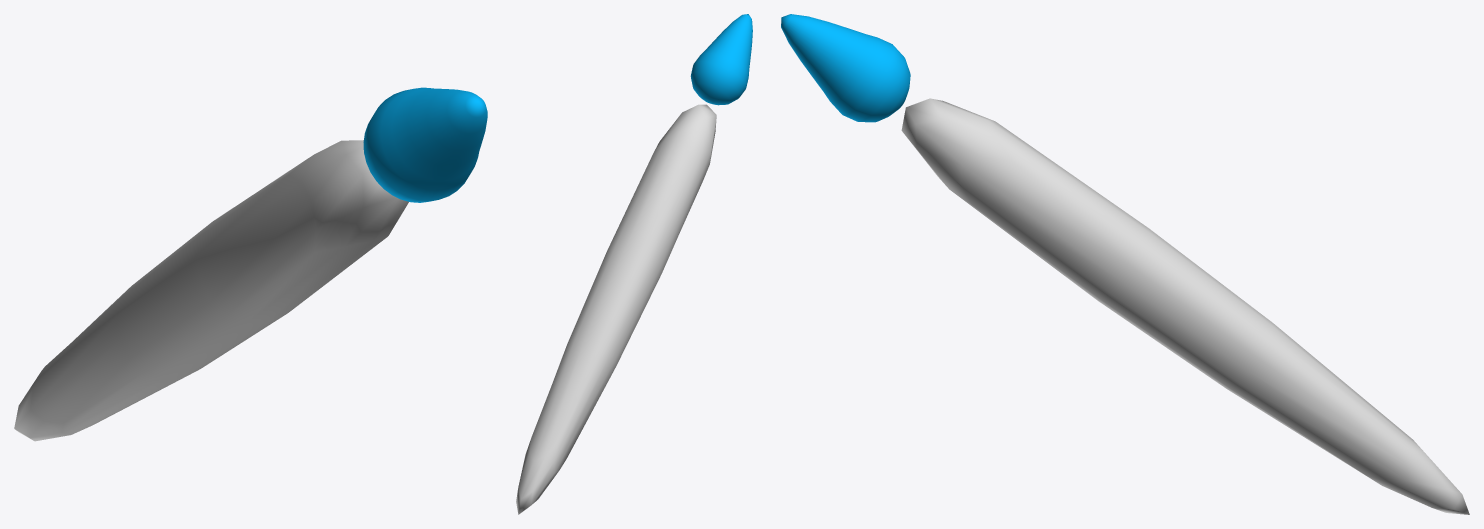
File: Brush.fbx
3 renders of one model, left to right at view 1: azimuth 30°, elevation 25°; view 2: azimuth 150°, elevation 25°; view 3: azimuth 270°, elevation 25°, orthographic. The views are drawn at different scales.
Parts seen in each view (by area): view 1: Cube, Sphere; view 2: Cube, Sphere; view 3: Cube, Sphere.
Part boxes in pixels (x1=…): Cube: x1=14, y1=140, x2=408, y2=441; Sphere: x1=363, y1=87, x2=487, y2=202; Cube: x1=516, y1=104, x2=716, y2=514; Sphere: x1=690, y1=14, x2=752, y2=105; Cube: x1=901, y1=98, x2=1469, y2=514; Sphere: x1=781, y1=14, x2=910, y2=122.
Bounding box in the file's own units: 11.41 × 71.98 × 89.88.
